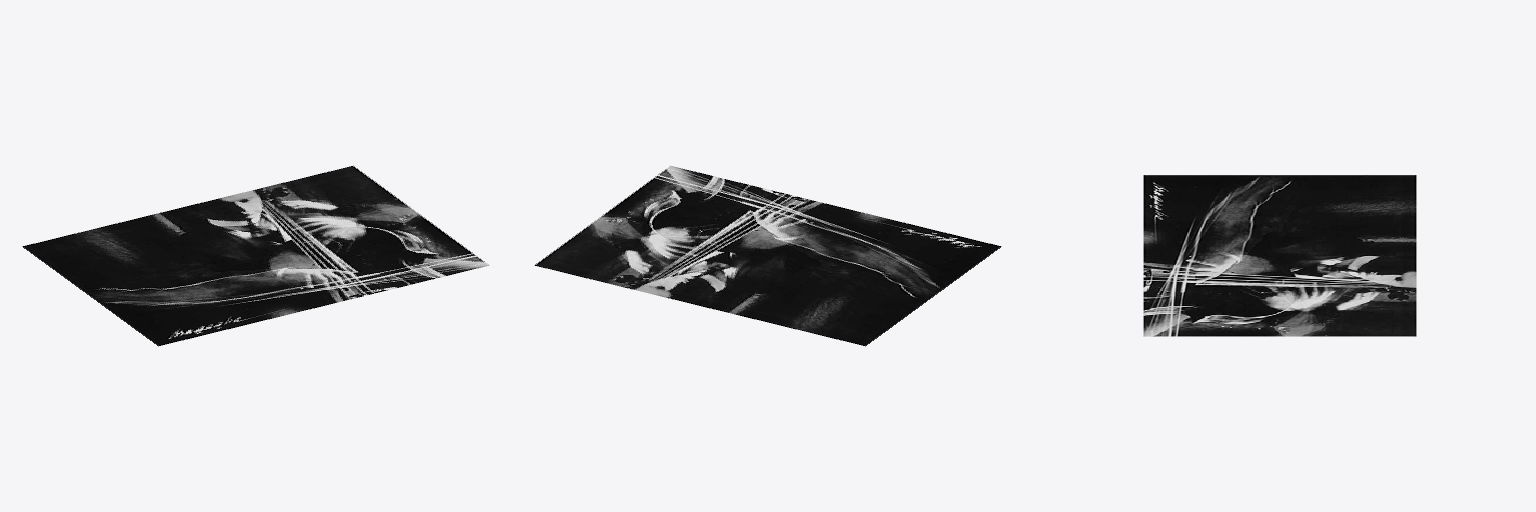
3 renders of one model, left to right at view 1: azimuth 30°, elevation 25°; view 2: azimuth 150°, elevation 25°; view 3: azimuth 270°, elevation 25°, orthographic.
Visible parts, largest first — view 1: Plane001; view 2: Plane001; view 3: Plane001.
Part boxes in pixels (x1,y1,x2,y2): Plane001: (22, 165, 489, 346); Plane001: (534, 165, 1001, 346); Plane001: (1143, 175, 1416, 336).
Bounding box in the file's own units: 3.93 × 0 × 2.81.
Materials: 1 (1 with a texture image).